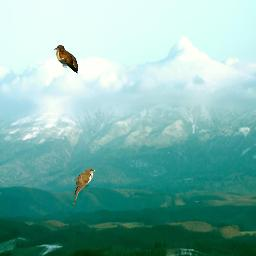Cuckoo: (73, 168, 96, 207), (54, 45, 78, 74)
